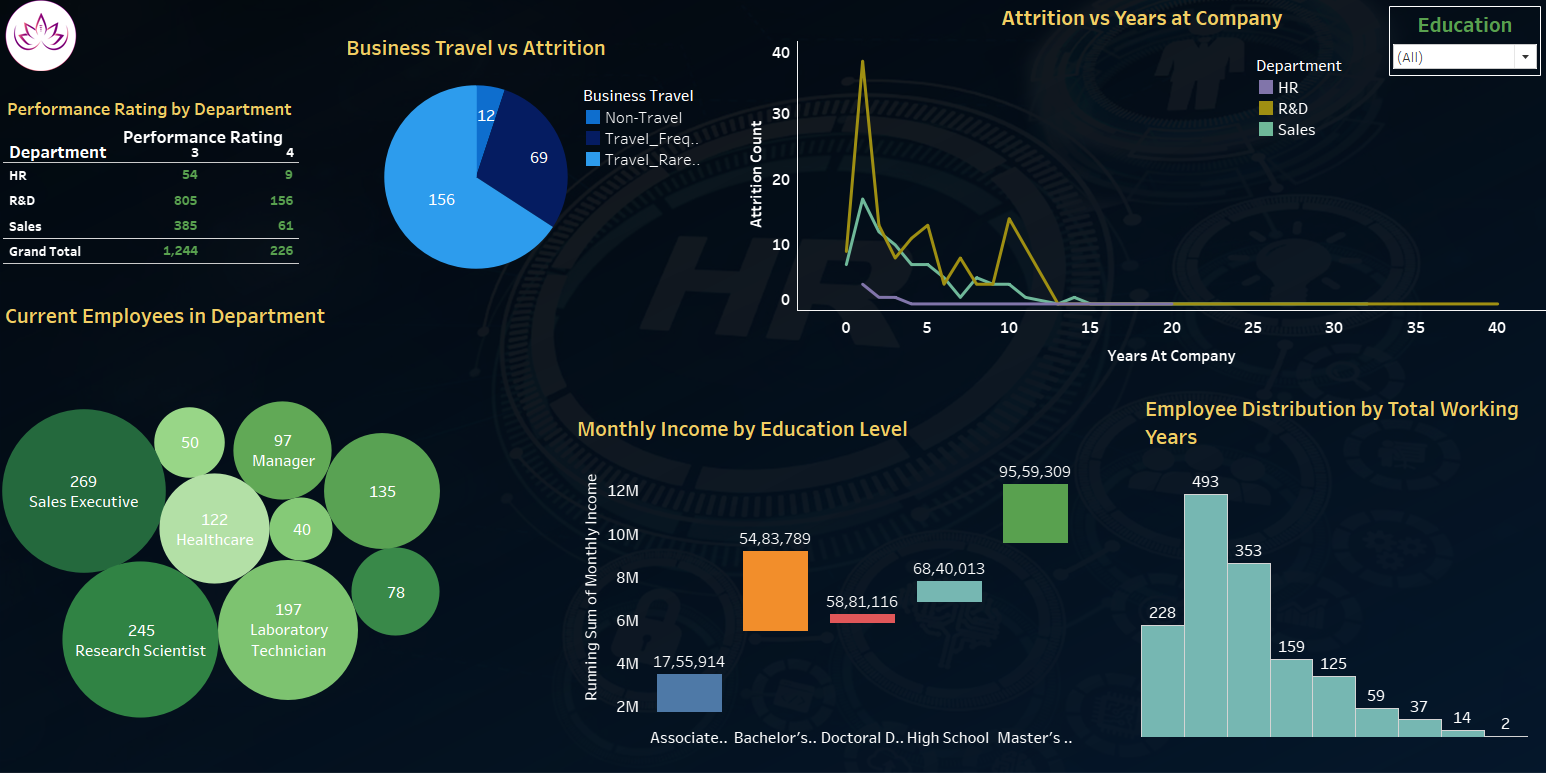

The page's visual inventory and layout, read from the dashboard file:
{"tool":"tableau","page":{"name":"Dashboard 2","canvas":[1000,1000],"units":"permille","ordinal":1},"visuals":[{"type":"image","param":"Image/bg1.png","box":[5.1,10,989.9,980]},{"type":"image","param":"Image/logo.png","box":[10.8,17.5,50,90]},{"type":"worksheet","title":"Attrition vs Years at Company","mark":"Line","rows":["Calculation_1563312085716348928"],"cols":["Years At Company"],"box":[476.6,17.5,511.4,467.5]},{"type":"filter","title":"Business Travel vs Attrition","param":"[federated.1mih5650cwixov158ot0y03tkkte].[none:Education:nk]","box":[888.6,26.2,96.2,87.5]},{"type":"worksheet","title":"Business Travel vs Attrition","mark":"Pie","box":[198.1,55,225.3,316.2]},{"type":"legend","title":"Attrition vs Years at Company","param":"[federated.1mih5650cwixov158ot0y03tkkte].[none:Department:nk]","box":[804.4,87.5,88.6,106.2]},{"type":"legend","title":"Business Travel vs Attrition","param":"[federated.1mih5650cwixov158ot0y03tkkte].[none:Business Travel:nk]","box":[378.5,125,101.9,131.2]},{"type":"worksheet","title":"Performance Rating by Department","mark":"Automatic","rows":["Department"],"cols":["Performance Rating"],"box":[11.4,133.8,187.3,215]},{"type":"worksheet","title":"Current Employees in Department","mark":"Circle","box":[10.1,390,386.1,602.5]},{"type":"worksheet","title":"Employee Distribution by Total Working Years","mark":"Bar","rows":["Employee Count"],"cols":["Total Working Years (bin)"],"box":[731.6,506.2,256.3,433.8]},{"type":"worksheet","title":"Monthly Income by Education Level","mark":"GanttBar","rows":["Monthly Income"],"cols":["Education"],"box":[372.2,531.2,320.2,423.8]}]}

Visuals, with their boxes on the dashboard's canvas, which has no fixed pixel size, in thousandths of its width and height (x1, y1, x2, y2). These are canvas units, not pixel positions in the 1546x773 screenshot, which may show the page scaled, cropped or inside an application window:
image: x1=5, y1=10, x2=995, y2=990
image: x1=11, y1=18, x2=61, y2=108
"Attrition vs Years at Company" worksheet (Line marks): x1=477, y1=18, x2=988, y2=485
"Business Travel vs Attrition" filter: x1=889, y1=26, x2=985, y2=114
"Business Travel vs Attrition" worksheet (Pie marks): x1=198, y1=55, x2=423, y2=371
"Attrition vs Years at Company" legend: x1=804, y1=88, x2=893, y2=194
"Business Travel vs Attrition" legend: x1=378, y1=125, x2=480, y2=256
"Performance Rating by Department" worksheet: x1=11, y1=134, x2=199, y2=349
"Current Employees in Department" worksheet (Circle marks): x1=10, y1=390, x2=396, y2=992
"Employee Distribution by Total Working Years" worksheet (Bar marks): x1=732, y1=506, x2=988, y2=940
"Monthly Income by Education Level" worksheet (GanttBar marks): x1=372, y1=531, x2=692, y2=955
